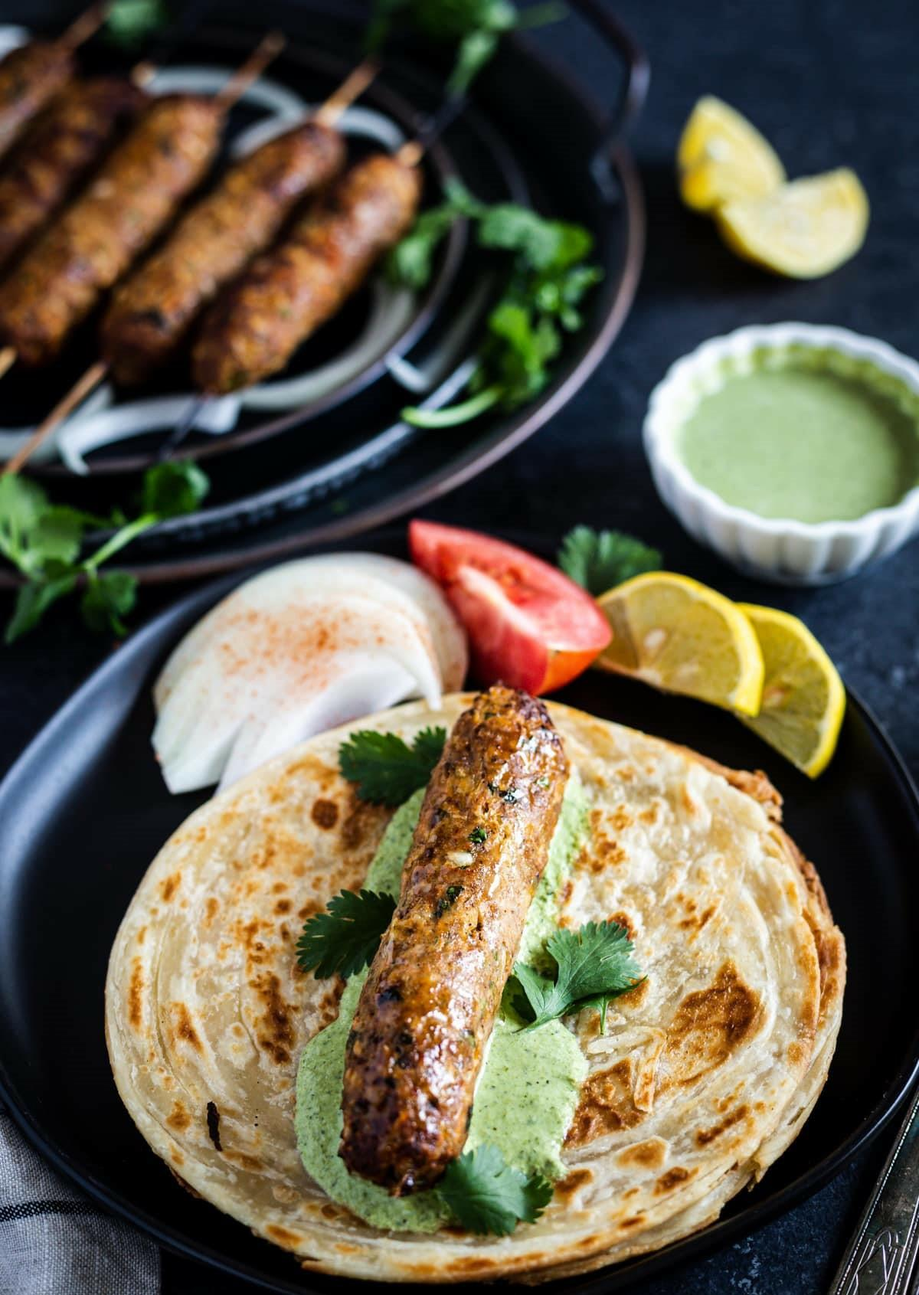GreenChutney: (682, 370, 919, 524)
Kebab: (341, 685, 571, 1199), (0, 100, 222, 352), (98, 120, 339, 352), (195, 156, 416, 391), (0, 90, 137, 261), (0, 39, 65, 156)
